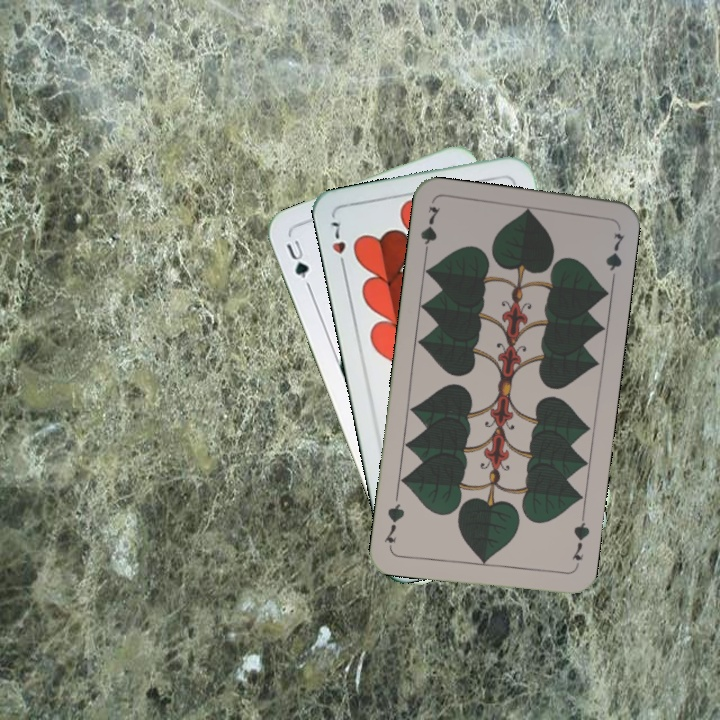G7: (416, 201, 443, 261), (568, 512, 592, 572)
GU: (282, 235, 312, 281)
H7: (326, 217, 348, 273)
